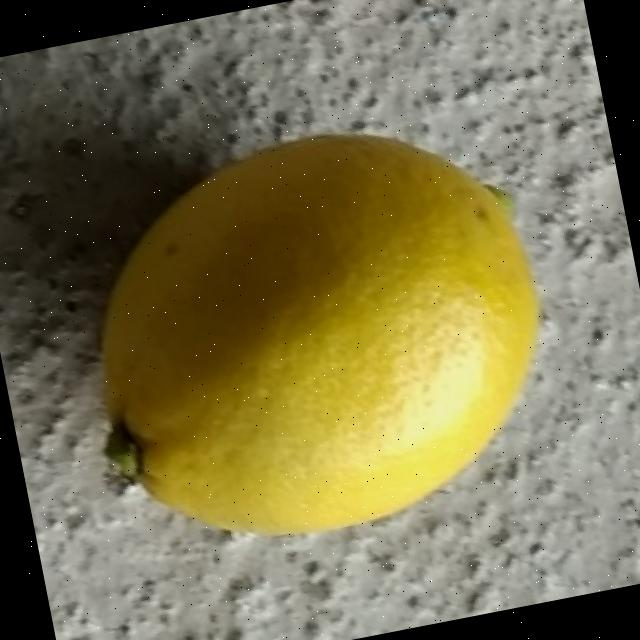Ripe: (49, 94, 584, 580)
